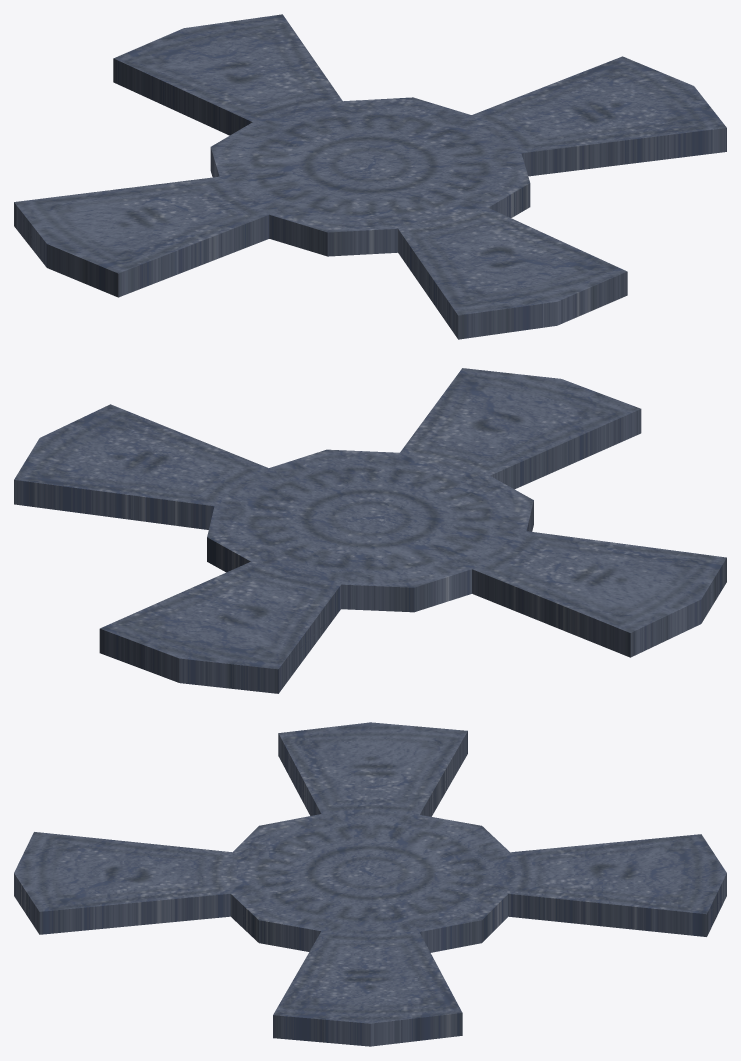
The model's file is Asset_platform_cross_x1_01.fbx.
3 renders of one model, top to bottom at view 1: azimuth 30°, elevation 25°; view 2: azimuth 150°, elevation 25°; view 3: azimuth 270°, elevation 25°, orthographic. The views are drawn at different scales.
Visible parts, largest first — view 1: Asset_platform_cross_x1_01; view 2: Asset_platform_cross_x1_01; view 3: Asset_platform_cross_x1_01.
Part boxes in pixels (box(x1,y1,x2,y2)): Asset_platform_cross_x1_01: box(14, 14, 726, 339); Asset_platform_cross_x1_01: box(14, 368, 726, 693); Asset_platform_cross_x1_01: box(14, 722, 726, 1046).
Size of the model in its own units: 8 by 0.2839 by 8.
